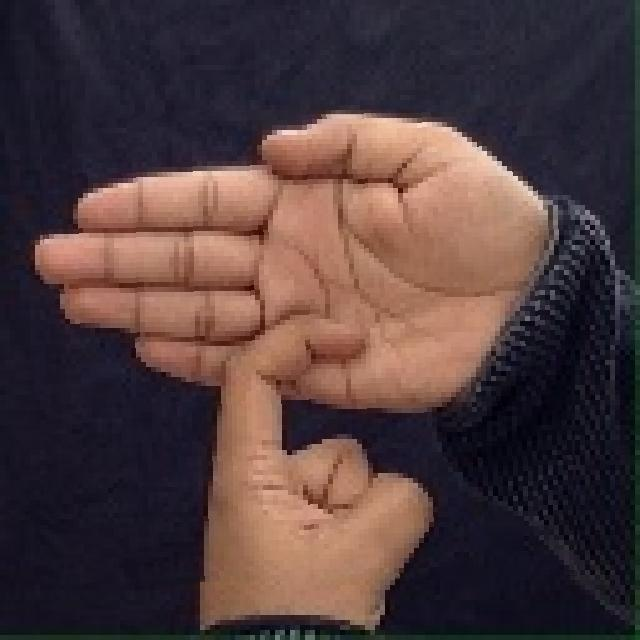R: (42, 109, 575, 583)
